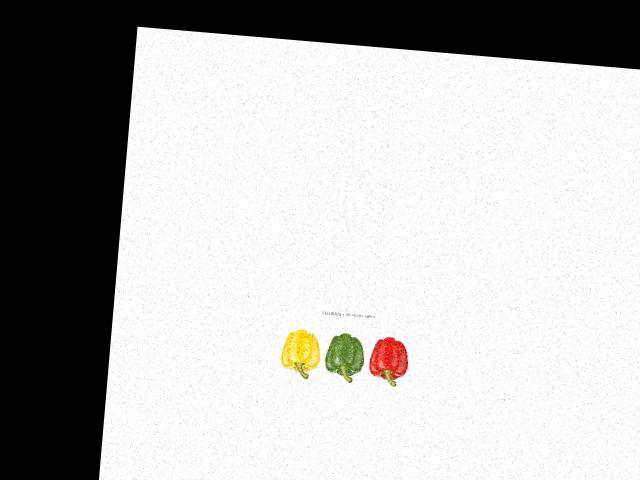bell_pepper: (277, 323, 325, 379)
